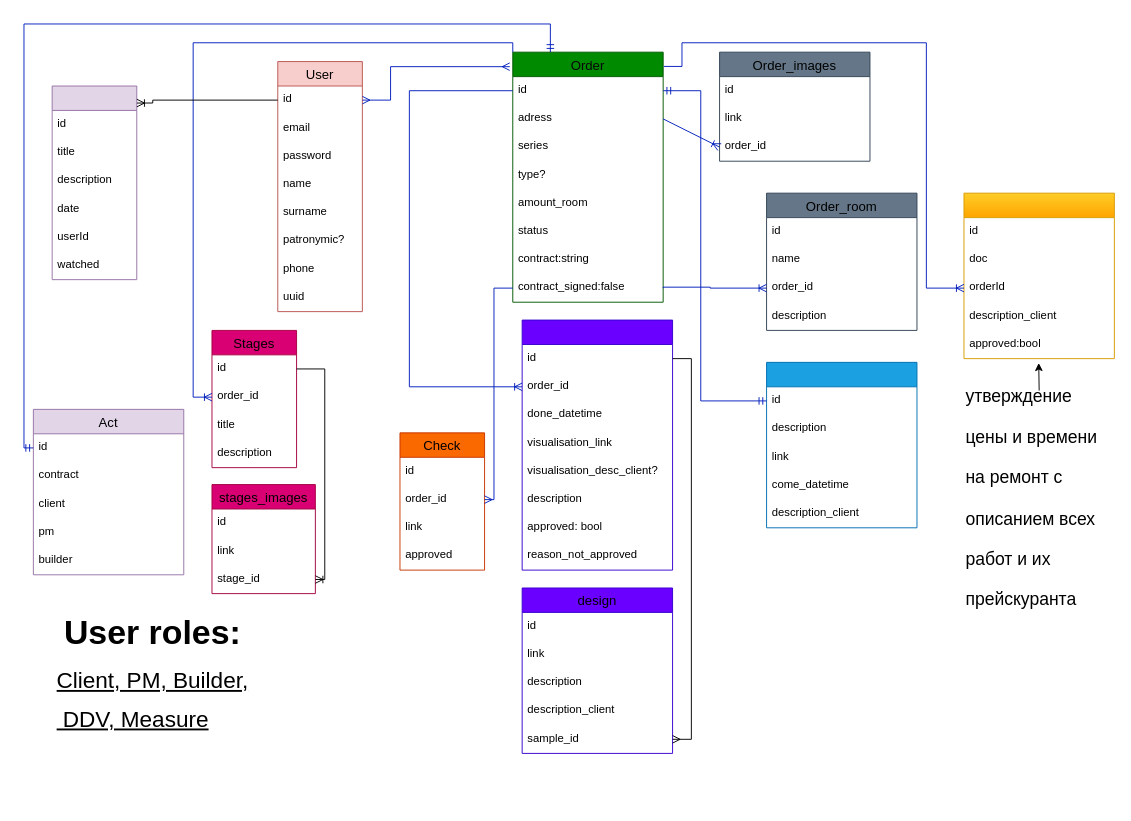
The diagram is 1131 pixels wide and 821 high, and some of its shapes have lost their labels. The shapes that lost their labels are listed below. From the top down, each one's box as (x1, y1, x2, y2) in pixels, then its label:
(51, 85, 137, 280): Notification
(963, 192, 1114, 359): approval
(521, 319, 673, 570): sample
(766, 361, 917, 528): measurement
